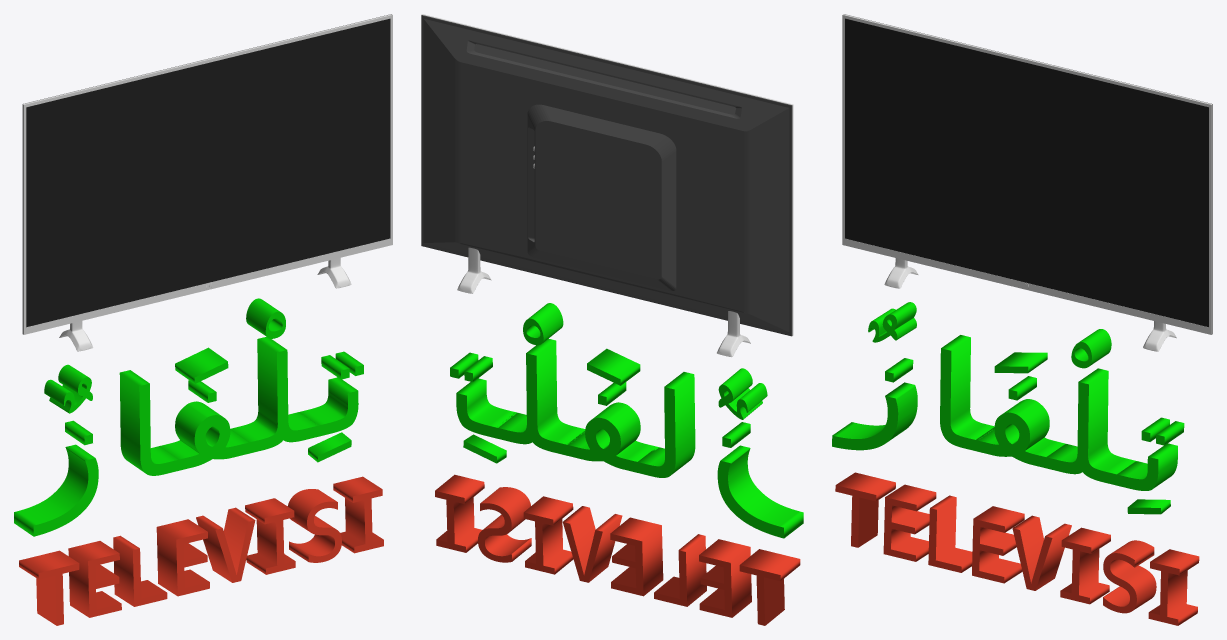
File: MI SMART TV.fbx
The picture shows the model from 3 angles, left to right: view 1: azimuth 30°, elevation 25°; view 2: azimuth 150°, elevation 25°; view 3: azimuth 330°, elevation 25°; orthographic projection.
Visible parts, largest first — view 1: Plane.002, Teks.005, Teks, Plane, Teks.004, Teks.003, Teks.002, Cube, Teks.001; view 2: Plane, Teks.005, Teks, Teks.004, Cube, Teks.003, Teks.002, Teks.001; view 3: Plane.002, Teks.005, Teks, Plane, Teks.004, Teks.002, Cube, Teks.003, Teks.001.
Boxes of the visible parts, box(x1,y1,x2,y2) form: Plane.002: box(26, 18, 390, 327); Teks.005: box(19, 476, 383, 625); Teks: box(14, 336, 363, 536); Plane: box(22, 14, 392, 334); Teks.004: box(44, 364, 92, 413); Teks.003: box(175, 347, 228, 383); Teks.002: box(246, 298, 285, 338); Cube: box(59, 258, 351, 351); Teks.001: box(308, 432, 351, 462); Plane: box(421, 14, 793, 336); Teks.005: box(435, 474, 800, 625); Teks: box(450, 338, 803, 538); Teks.004: box(718, 368, 767, 419); Cube: box(457, 247, 750, 356); Teks.003: box(587, 348, 640, 385); Teks.002: box(523, 303, 563, 345); Teks.001: box(463, 434, 506, 463); Plane.002: box(845, 18, 1208, 327); Teks.005: box(835, 472, 1199, 625); Teks: box(832, 335, 1184, 490); Plane: box(842, 14, 1212, 334); Teks.004: box(868, 302, 916, 342); Teks.002: box(1071, 329, 1111, 368); Cube: box(884, 258, 1176, 351); Teks.003: box(994, 352, 1047, 373); Teks.001: box(1127, 499, 1170, 514).
Bounding box in the file's own units: 435 × 585 × 52.48.
